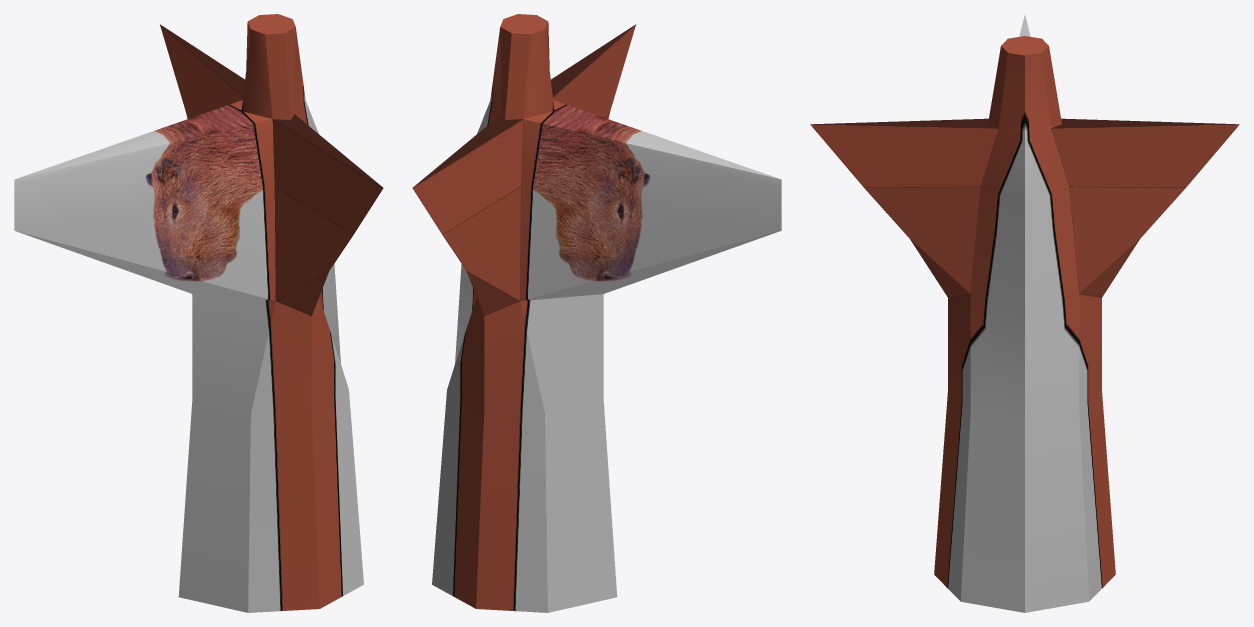
File: PlainTail.fbx
3 renders of one model, left to right at view 1: azimuth 30°, elevation 25°; view 2: azimuth 150°, elevation 25°; view 3: azimuth 270°, elevation 25°, orthographic. The views are drawn at different scales.
Visible parts, largest first — view 1: pCylinder3; view 2: pCylinder3; view 3: pCylinder3.
Part boxes in pixels (x1,y1,x2,y2): pCylinder3: (14, 14, 383, 612); pCylinder3: (412, 14, 781, 612); pCylinder3: (810, 15, 1239, 612).
Size of the model in its own units: 12.85 by 19.87 by 14.65.
